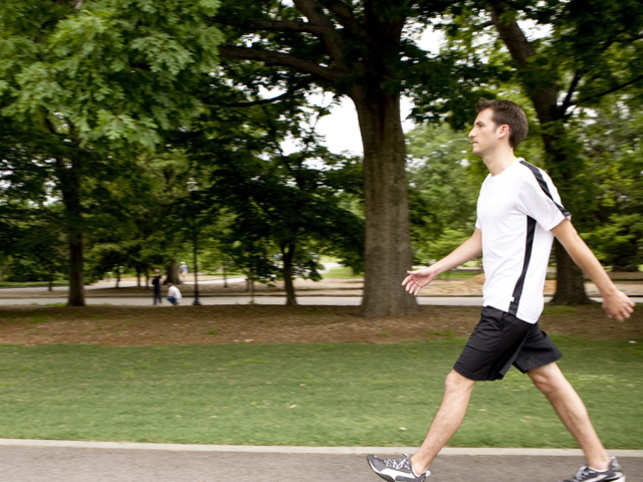feet: (358, 406, 631, 482)
